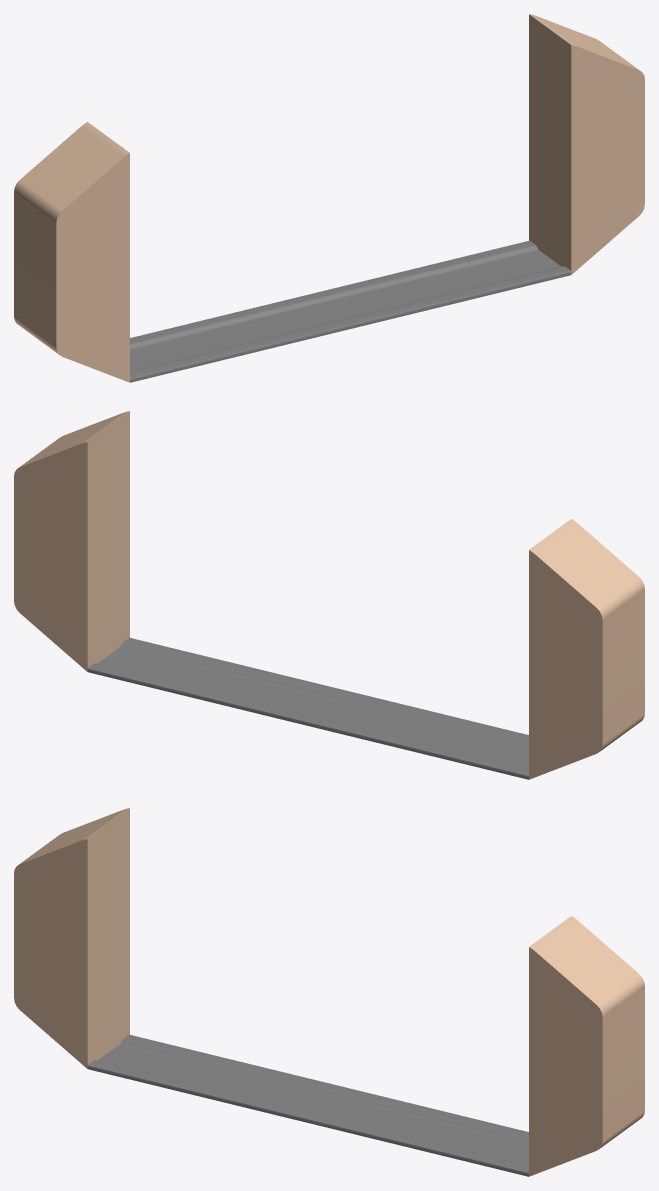
Rendered from MOD_1b.fbx.
The picture shows the model from 3 angles, top to bottom: view 1: azimuth 30°, elevation 25°; view 2: azimuth 150°, elevation 25°; view 3: azimuth 330°, elevation 25°; orthographic projection.
Parts seen in each view (by area): view 1: MOD_1b; view 2: MOD_1b; view 3: MOD_1b.
Boxes of the visible parts, box(x1,y1,x2,y2) form: MOD_1b: box(14, 14, 644, 382); MOD_1b: box(14, 411, 644, 779); MOD_1b: box(14, 808, 644, 1176).
Bounding box in the file's own units: 8 × 2.99 × 1.
